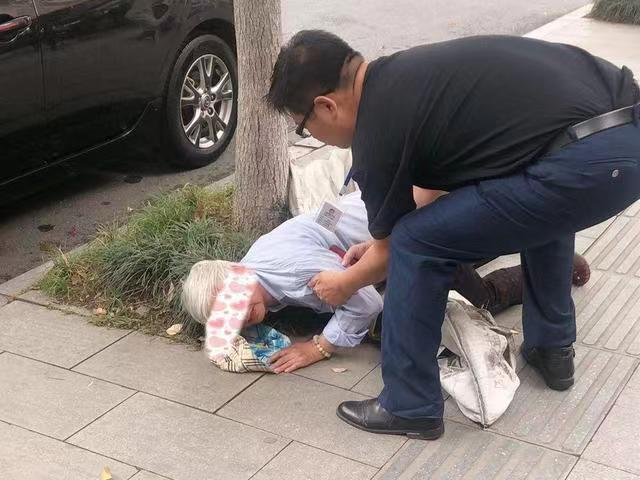bending: (297, 20, 640, 444)
down: (175, 184, 428, 370)
